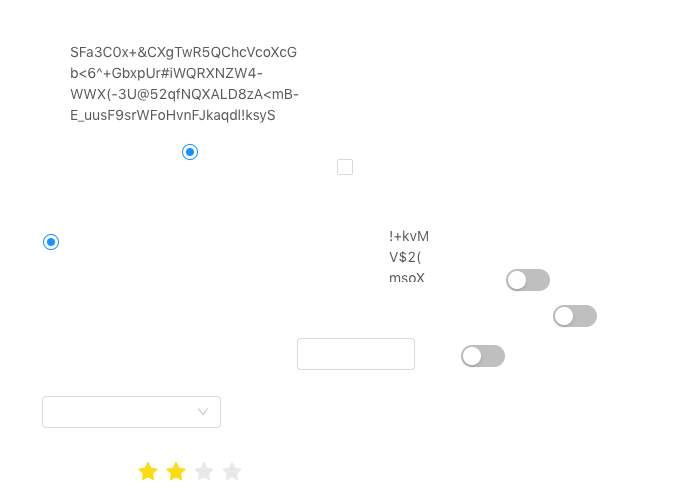Checkbox: (337, 156, 353, 177)
Input: (297, 338, 415, 370)
Radio: (182, 141, 198, 161), (43, 231, 59, 251)
Rate: (138, 455, 258, 487)
Select: (42, 396, 221, 428)
Switch: (553, 304, 597, 328), (506, 268, 550, 292), (461, 344, 505, 368)
Text: (70, 41, 300, 140), (389, 225, 431, 282)
